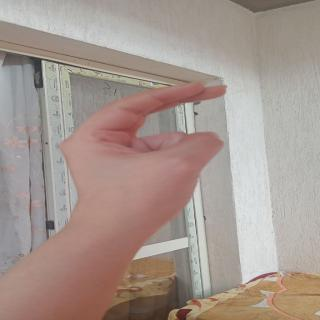ZAY: (48, 78, 283, 198)
